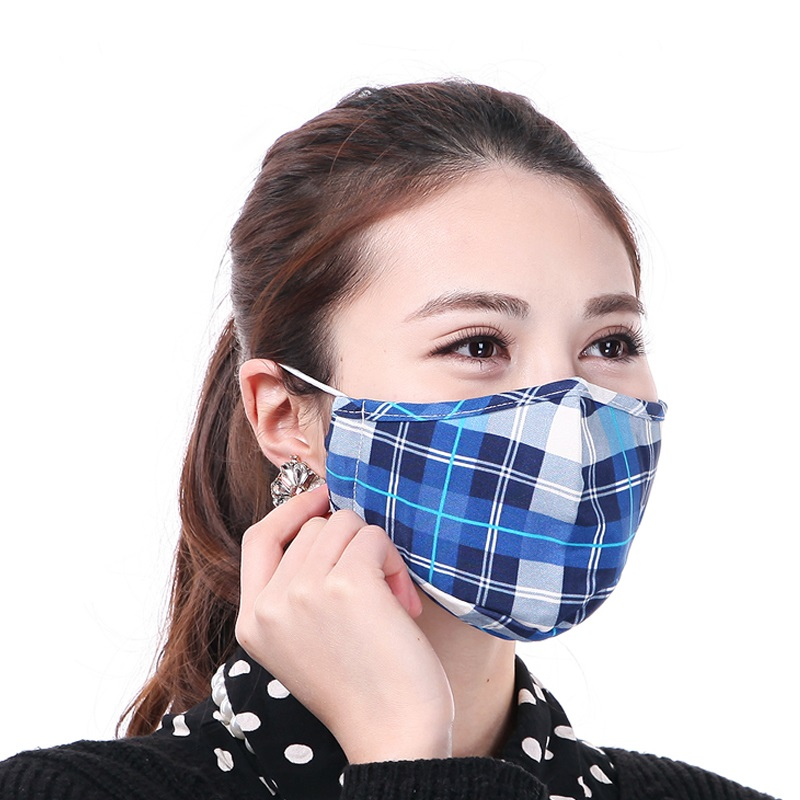face_mask: (329, 176, 657, 637)
